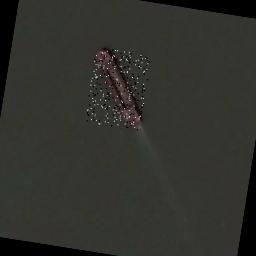boat: (84, 47, 152, 131)
